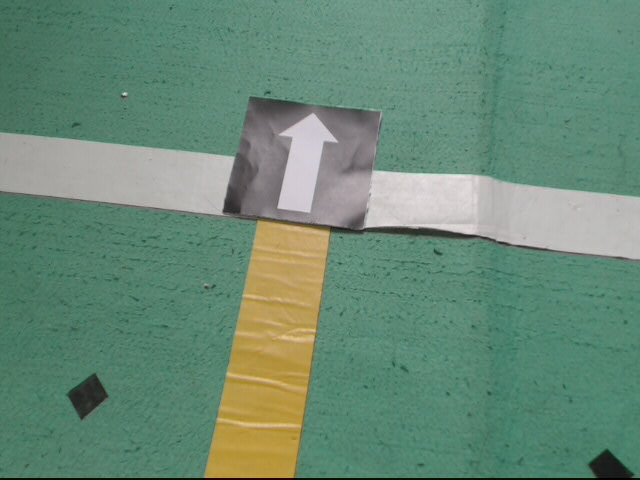straight: (225, 94, 385, 233)
